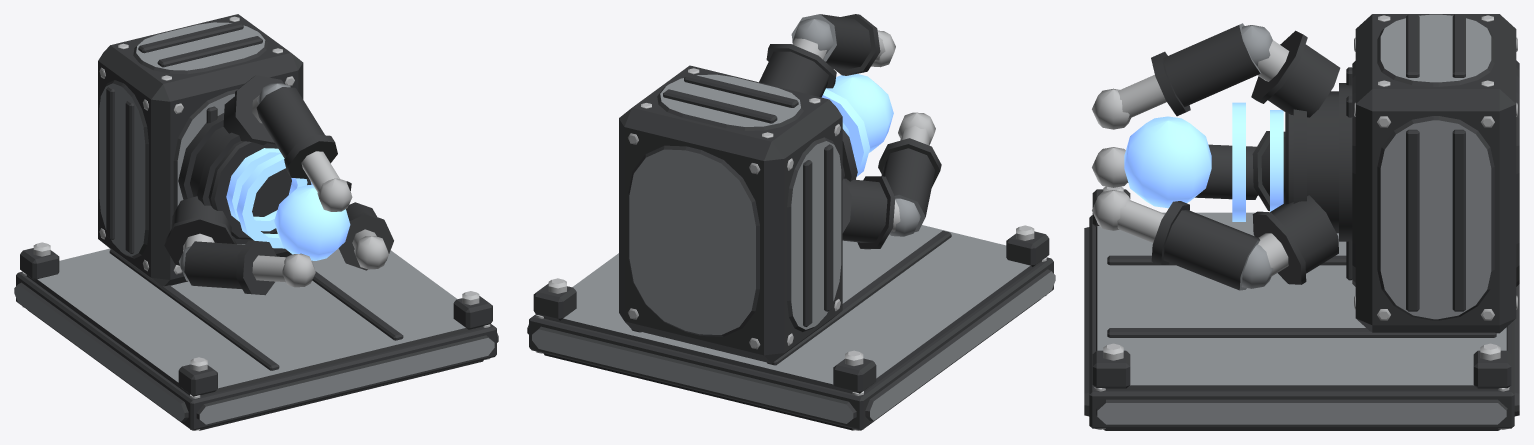
The model's file is R4X_DirectionalEMP.fbx.
3 views of the same model, side by side, from view 1: azimuth 30°, elevation 25°; view 2: azimuth 150°, elevation 25°; view 3: azimuth 270°, elevation 25° (orthographic). The views are drawn at different scales.
Visible parts, largest first — view 1: R4X_DirectionalEMP_Body; view 2: R4X_DirectionalEMP_Body; view 3: R4X_DirectionalEMP_Body.
Boxes of the visible parts, x1,y1,x2,y2 form: R4X_DirectionalEMP_Body: [14, 14, 498, 430]; R4X_DirectionalEMP_Body: [527, 14, 1055, 430]; R4X_DirectionalEMP_Body: [1084, 14, 1519, 430].
Bounding box in the file's own units: 0.52 × 0.421 × 0.52.
